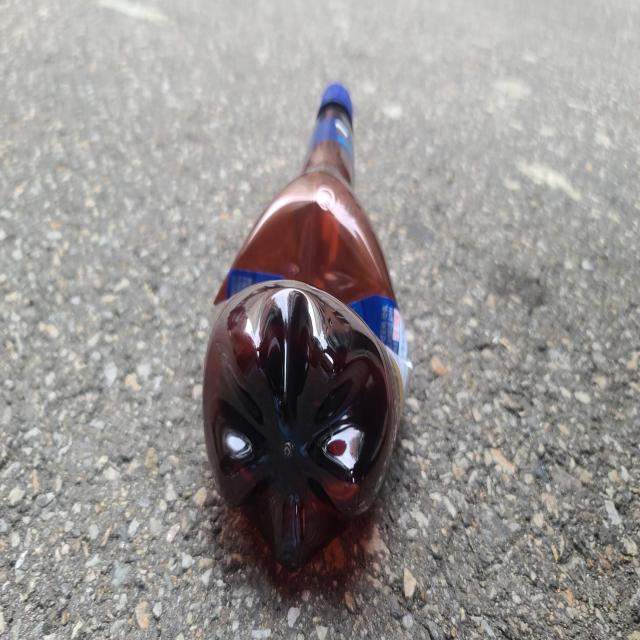plastic: (202, 82, 413, 567)
